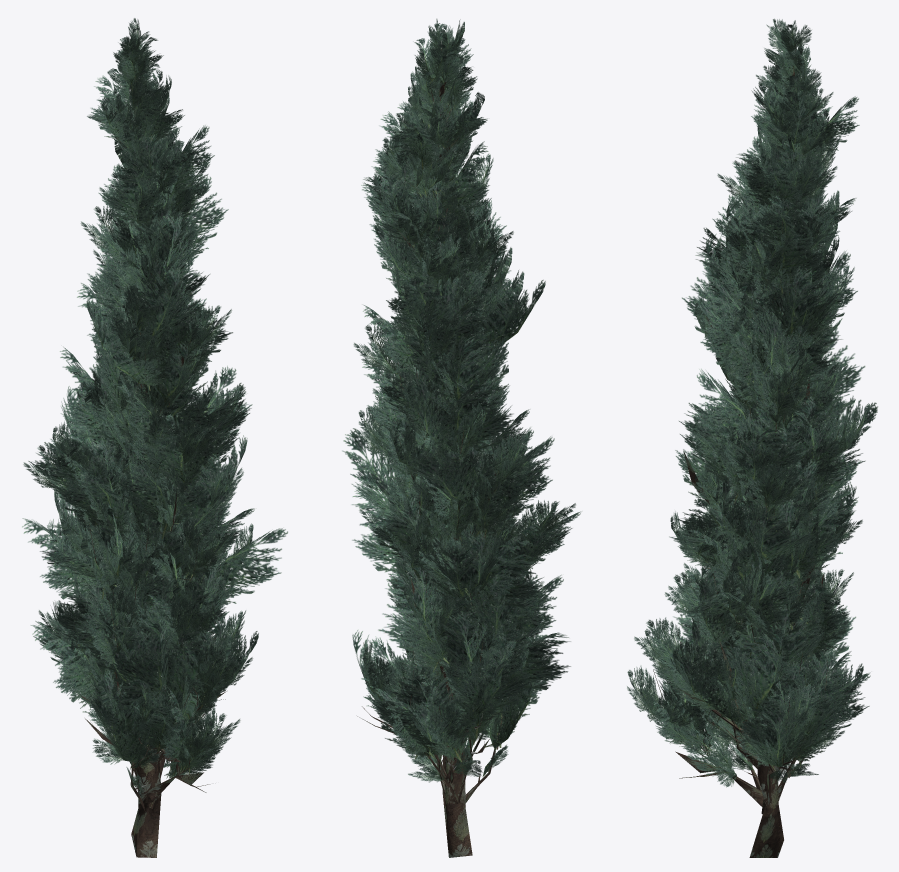
File: cypress.glb
3 renders of one model, left to right at view 1: azimuth 30°, elevation 25°; view 2: azimuth 150°, elevation 25°; view 3: azimuth 270°, elevation 25°, orthographic. The views are drawn at different scales.
Visible parts, largest first — view 1: Cypress_V2_test_Cypress_2_sided_0, Cypress_V2_test_Cypress_bark_0; view 2: Cypress_V2_test_Cypress_2_sided_0, Cypress_V2_test_Cypress_bark_0; view 3: Cypress_V2_test_Cypress_2_sided_0, Cypress_V2_test_Cypress_bark_0.
Part boxes in pixels (x1=…): Cypress_V2_test_Cypress_2_sided_0: x1=22, y1=18, x2=287, y2=791; Cypress_V2_test_Cypress_bark_0: x1=69, y1=61, x2=226, y2=857; Cypress_V2_test_Cypress_2_sided_0: x1=342, y1=19, x2=581, y2=782; Cypress_V2_test_Cypress_bark_0: x1=357, y1=45, x2=526, y2=857; Cypress_V2_test_Cypress_2_sided_0: x1=627, y1=18, x2=877, y2=787; Cypress_V2_test_Cypress_bark_0: x1=653, y1=50, x2=839, y2=857.
Bounding box in the file's own units: 1.66 × 5.31 × 1.49.
Materials: 3 (2 with a texture image).
